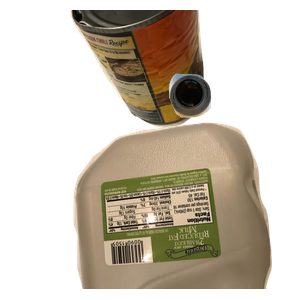glass: (166, 71, 300, 181)
metal: (68, 10, 265, 131)
plastic: (71, 120, 300, 300)
trash: (97, 151, 283, 300)
